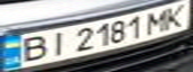1: (124, 14, 148, 39), (93, 20, 115, 47)
2: (72, 25, 96, 53)
8: (109, 17, 130, 44)
B: (9, 34, 54, 63)
I: (42, 29, 72, 57)
K: (157, 2, 193, 30)
M: (142, 7, 175, 34)
